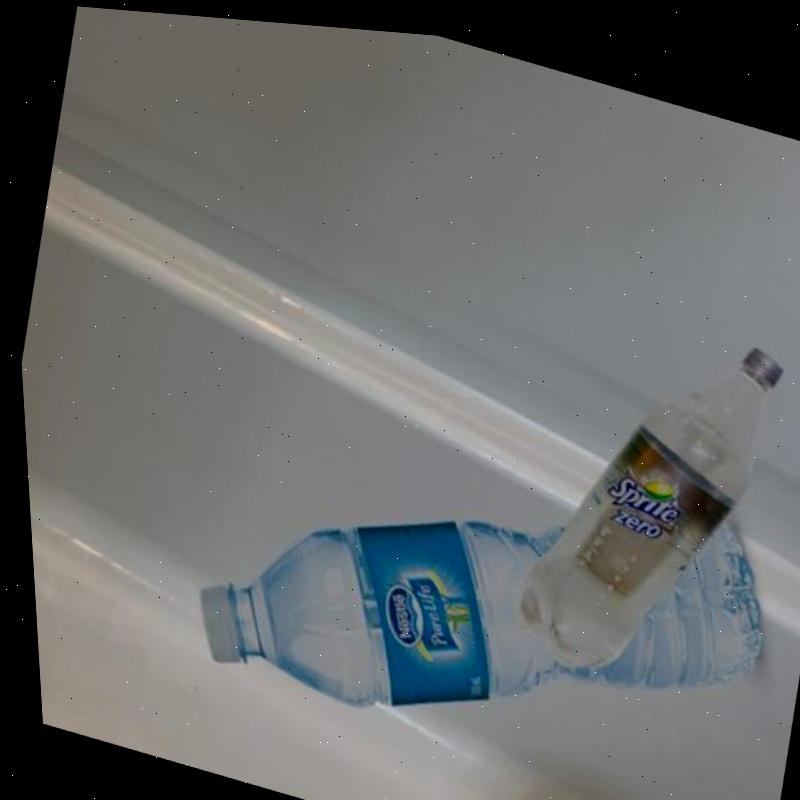botella: (171, 368, 787, 800), (486, 275, 800, 702)
